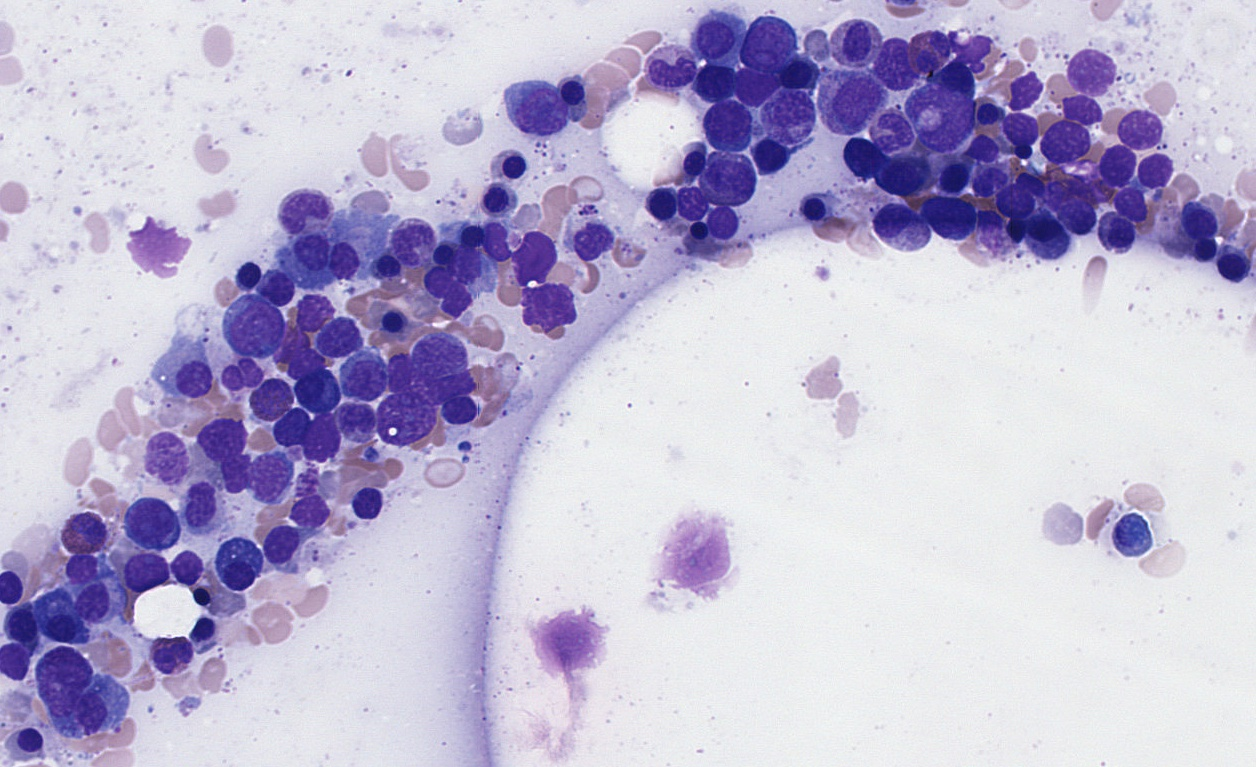objectness: (285, 362, 335, 412), (33, 600, 83, 650), (285, 229, 335, 279), (213, 550, 263, 600), (171, 480, 221, 530), (213, 355, 263, 405), (873, 105, 923, 155), (762, 84, 812, 134), (822, 76, 872, 126), (704, 148, 754, 198), (867, 201, 917, 251), (830, 17, 880, 67), (243, 372, 293, 422), (61, 505, 111, 555), (900, 27, 950, 77), (143, 631, 193, 681), (641, 48, 691, 98), (278, 183, 328, 233), (382, 215, 432, 265), (740, 22, 790, 72), (225, 301, 275, 351), (123, 498, 173, 548), (913, 88, 963, 138), (36, 651, 86, 701), (990, 172, 1040, 222), (161, 541, 211, 591), (426, 275, 476, 325), (1105, 511, 1155, 561), (371, 393, 421, 443), (865, 41, 915, 91), (265, 321, 315, 371), (144, 434, 194, 484), (1181, 227, 1231, 277), (1133, 141, 1183, 191), (1107, 177, 1157, 227), (283, 485, 333, 535), (275, 338, 325, 388), (1113, 105, 1163, 155), (922, 197, 972, 247), (999, 65, 1049, 115), (883, 155, 933, 205), (953, 23, 1003, 73), (665, 177, 715, 227), (964, 156, 1014, 206), (166, 356, 216, 406), (67, 687, 117, 737), (701, 198, 751, 248), (513, 232, 563, 282), (411, 331, 461, 381), (442, 239, 492, 289), (1056, 85, 1106, 135), (1069, 41, 1119, 91), (567, 214, 617, 264), (289, 415, 339, 465), (288, 289, 338, 339), (927, 154, 977, 204), (728, 61, 778, 111), (116, 546, 166, 596), (1088, 139, 1138, 189), (410, 258, 460, 308), (690, 11, 740, 61), (1005, 159, 1055, 209), (208, 450, 258, 500), (1060, 189, 1110, 239), (203, 411, 253, 461), (930, 52, 980, 102), (471, 218, 521, 268), (532, 282, 582, 332), (1037, 115, 1087, 165), (964, 204, 1014, 254), (329, 391, 379, 441), (1091, 211, 1141, 261), (957, 120, 1007, 170), (431, 385, 481, 435), (513, 86, 563, 136), (771, 47, 821, 97), (232, 451, 282, 501), (831, 127, 881, 177), (375, 345, 425, 395), (257, 520, 307, 570), (52, 540, 102, 590), (65, 581, 115, 631), (1173, 194, 1223, 244), (989, 102, 1039, 152), (260, 405, 310, 455), (342, 478, 392, 528), (309, 312, 359, 362), (340, 354, 390, 404), (252, 261, 302, 311), (469, 175, 519, 225), (0, 716, 50, 766), (223, 250, 273, 300), (635, 180, 685, 230), (745, 129, 795, 179), (688, 56, 738, 106), (665, 136, 715, 186), (447, 211, 497, 261), (366, 296, 416, 346), (962, 88, 1012, 138), (788, 184, 838, 234), (549, 68, 599, 118), (700, 94, 750, 144), (361, 242, 411, 292), (488, 141, 538, 191), (1210, 244, 1256, 294), (0, 602, 44, 652), (0, 635, 35, 685), (0, 562, 34, 612)
